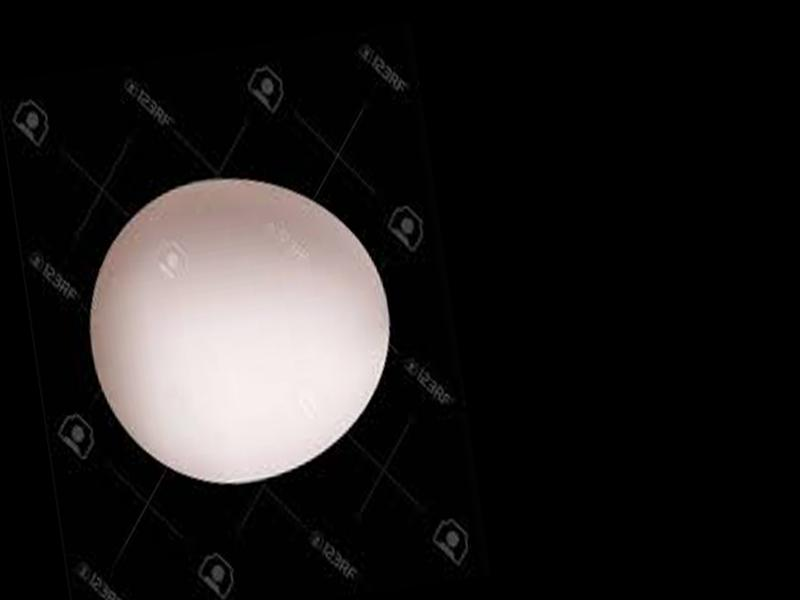Eggs: (72, 162, 407, 499)
